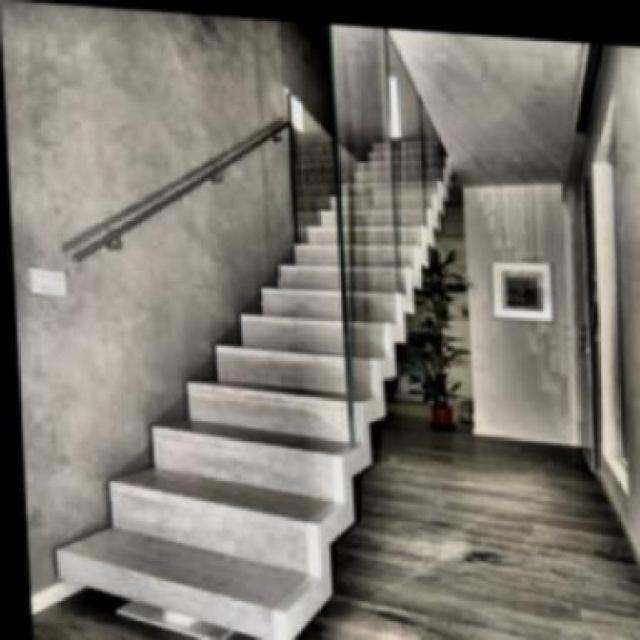stair: (128, 152, 415, 534)
